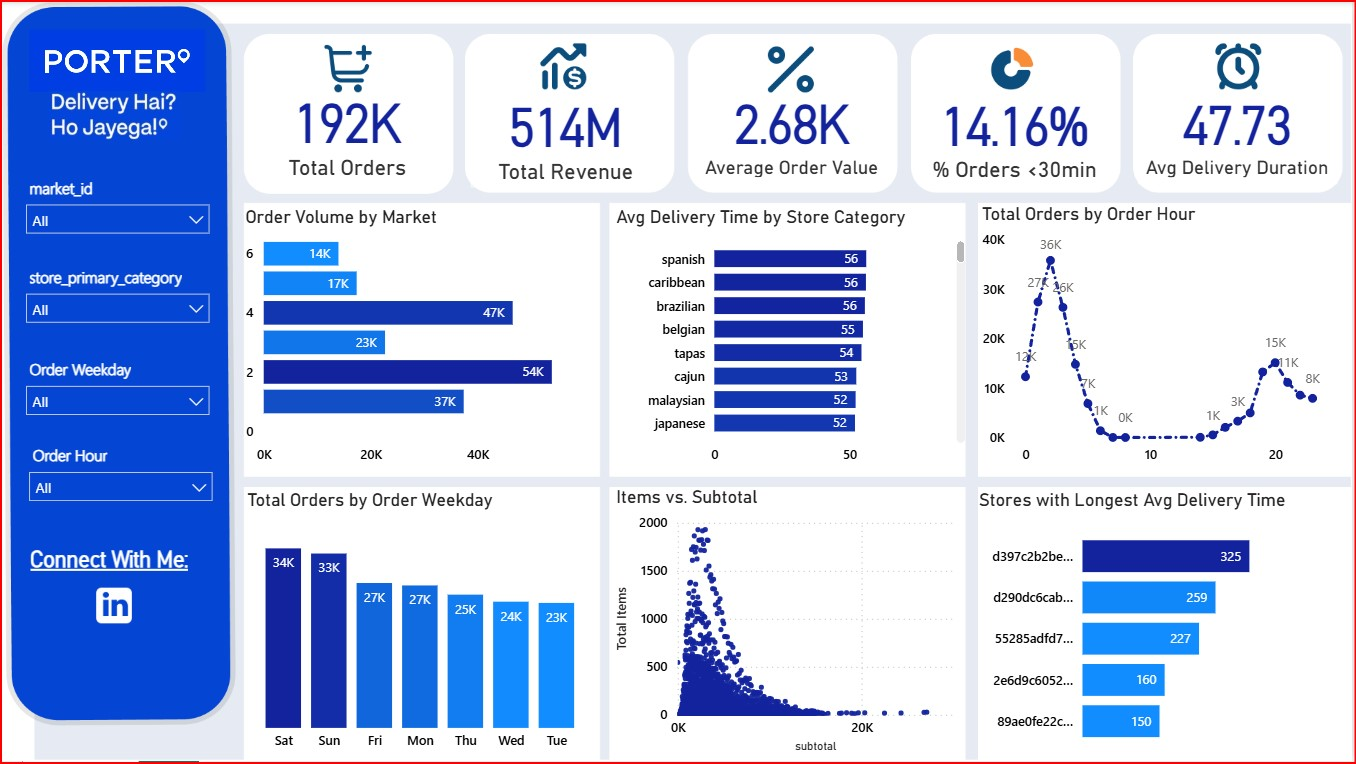

This screenshot's page, from the dashboard's own definition file:
{"tool":"powerbi","page":{"name":"Page 1","canvas":[1280,720],"ordinal":0},"visuals":[{"type":"group","id":"g1","title":"Group 1","box":[20.4,22,177.5,114.7],"z":0},{"type":"image","title":" ''Delivery Hai? Ho Jayega''","box":[20.4,22,177.5,69.1],"z":0,"group":"g1"},{"type":"card","fields":{"Values":["Potor.Total Orders"]},"box":[237.6,70.4,180,103],"z":1000},{"type":"image","box":[37.7,80.1,136.7,56.5],"z":1000,"group":"g1"},{"type":"card","fields":{"Values":["Potor.Average Order Value"]},"box":[657.8,70.5,180,103],"z":2000},{"type":"card","fields":{"Values":["Potor.% Orders <30min"]},"box":[870.3,72.3,180.7,102.1],"z":3000},{"type":"card","fields":{"Values":["Potor.Average Delivery Duration"]},"box":[1076.1,70.7,188.5,102.1],"z":4000},{"type":"card","fields":{"Values":["Potor.Total Revenue"]},"box":[444.6,73.8,180.7,102.1],"z":5000},{"type":"clusteredBarChart","title":"Order Volume by Market","fields":{"Y":["Potor.Total Orders"],"Category":["Potor.market_id"]},"box":[225.8,195.2,339.5,253.5],"z":6000},{"type":"lineChart","fields":{"Y":["Potor.Total Orders"],"Category":["Potor.Order Hour"]},"box":[923,192.3,356.9,256.4],"z":7000},{"type":"barChart","title":"Avg Delivery Time by Store Category","fields":{"Y":["Potor.Average Delivery Duration"],"Category":["Potor.store_primary_category"]},"box":[576.9,195.2,340.9,253.5],"z":8000},{"type":"columnChart","fields":{"Y":["Potor.Total Orders"],"Category":["Potor.Order Weekday"]},"box":[227.3,463.3,338,256.4],"z":9000},{"type":"scatterChart","title":"Items vs. Subtotal","fields":{"X":["Potor.subtotal"],"Y":["Potor.Total Items"]},"box":[576.9,460.4,340.9,256.4],"z":10000},{"type":"barChart","title":"Stores with Longest Avg Delivery Time","fields":{"Category":["Potor.store_id"],"Y":["Potor.Average Delivery Duration"]},"box":[920.5,463.4,359.7,256.1],"z":11000},{"type":"image","box":[295.3,36.1,65,55],"z":12000},{"type":"slicer","fields":{"Values":["Potor.market_id"]},"box":[13.1,161.3,193.2,67.5],"z":12000,"group":"g2"},{"type":"image","box":[500.4,34.7,65,54],"z":13000},{"type":"slicer","fields":{"Values":["Potor.store_primary_category"]},"box":[13.1,246.1,193.2,67.5],"z":13000,"group":"g2"},{"type":"image","box":[714.8,37.7,64.4,54],"z":14000},{"type":"slicer","fields":{"Values":["Potor.Order Weekday"]},"box":[13.1,332.5,193.2,67.5],"z":14000,"group":"g2"},{"type":"image","box":[917.9,36.4,78.7,55.4],"z":15000},{"type":"slicer","fields":{"Values":["Potor.Order Hour"]},"box":[16.2,414.2,193.2,70.7],"z":15000,"group":"g2"},{"type":"image","box":[1138.9,34.6,64.4,54],"z":16000},{"type":"group","id":"g2","title":"Group 2","box":[13.1,161.3,196.4,323.6],"z":17000},{"type":"textbox","box":[21.9,511.4,177.7,39.3],"z":18000},{"type":"image","box":[80.1,550.7,52.4,43.7],"z":19000}]}

Visuals, with their boxes in screenshot pixels (x1, y1, x2, y2), scaled from the page's 1280x720 canvas onto the 1356x764 screenshot:
"Group 1" group: x1=22, y1=23, x2=210, y2=145
" ''Delivery Hai? Ho Jayega''" image: x1=22, y1=23, x2=210, y2=97
card - Potor.Total Orders: x1=252, y1=75, x2=442, y2=184
image: x1=40, y1=85, x2=185, y2=145
card - Potor.Average Order Value: x1=697, y1=75, x2=888, y2=184
card - Potor.% Orders <30min: x1=922, y1=77, x2=1113, y2=185
card - Potor.Average Delivery Duration: x1=1140, y1=75, x2=1340, y2=183
card - Potor.Total Revenue: x1=471, y1=78, x2=662, y2=187
"Order Volume by Market" clusteredBarChart: x1=239, y1=207, x2=599, y2=476
lineChart - Potor.Total Orders x Potor.Order Hour: x1=978, y1=204, x2=1355, y2=476
"Avg Delivery Time by Store Category" barChart: x1=611, y1=207, x2=972, y2=476
columnChart - Potor.Total Orders x Potor.Order Weekday: x1=241, y1=492, x2=599, y2=763
"Items vs. Subtotal" scatterChart: x1=611, y1=489, x2=972, y2=761
"Stores with Longest Avg Delivery Time" barChart: x1=975, y1=492, x2=1355, y2=763
image: x1=313, y1=38, x2=382, y2=97
slicer - Potor.market_id: x1=14, y1=171, x2=219, y2=243
image: x1=530, y1=37, x2=599, y2=94
slicer - Potor.store_primary_category: x1=14, y1=261, x2=219, y2=333
image: x1=757, y1=40, x2=825, y2=97
slicer - Potor.Order Weekday: x1=14, y1=353, x2=219, y2=424
image: x1=972, y1=39, x2=1056, y2=97
slicer - Potor.Order Hour: x1=17, y1=440, x2=222, y2=515
image: x1=1207, y1=37, x2=1275, y2=94
"Group 2" group: x1=14, y1=171, x2=222, y2=515
textbox: x1=23, y1=543, x2=211, y2=584
image: x1=85, y1=584, x2=140, y2=631
